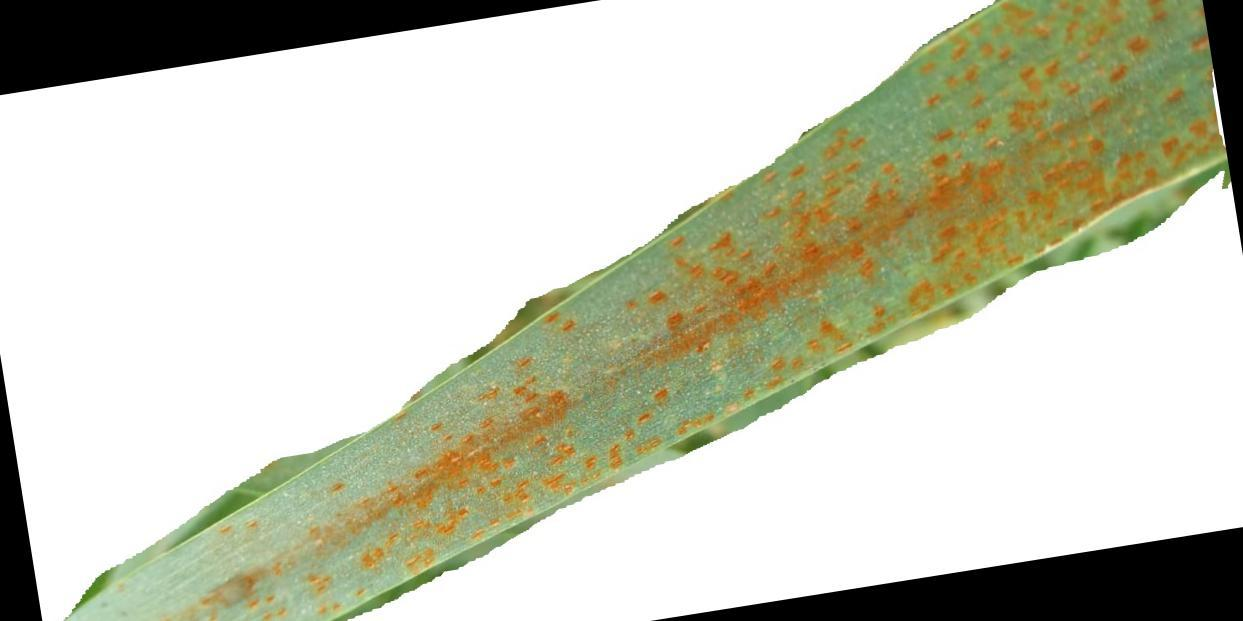Wheat: (622, 62, 934, 473), (944, 34, 1105, 222), (1122, 47, 1218, 176)
